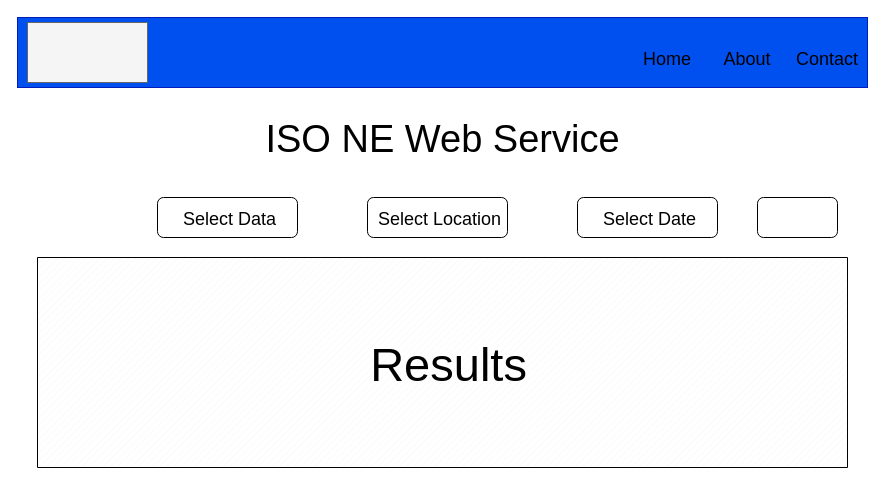
This 885x485 diagram has some shape labels left out. Here are the shapes that lost their labels. From the top down, the centre of each, then its label:
point (87, 52): LOGO
point (797, 217): Go
